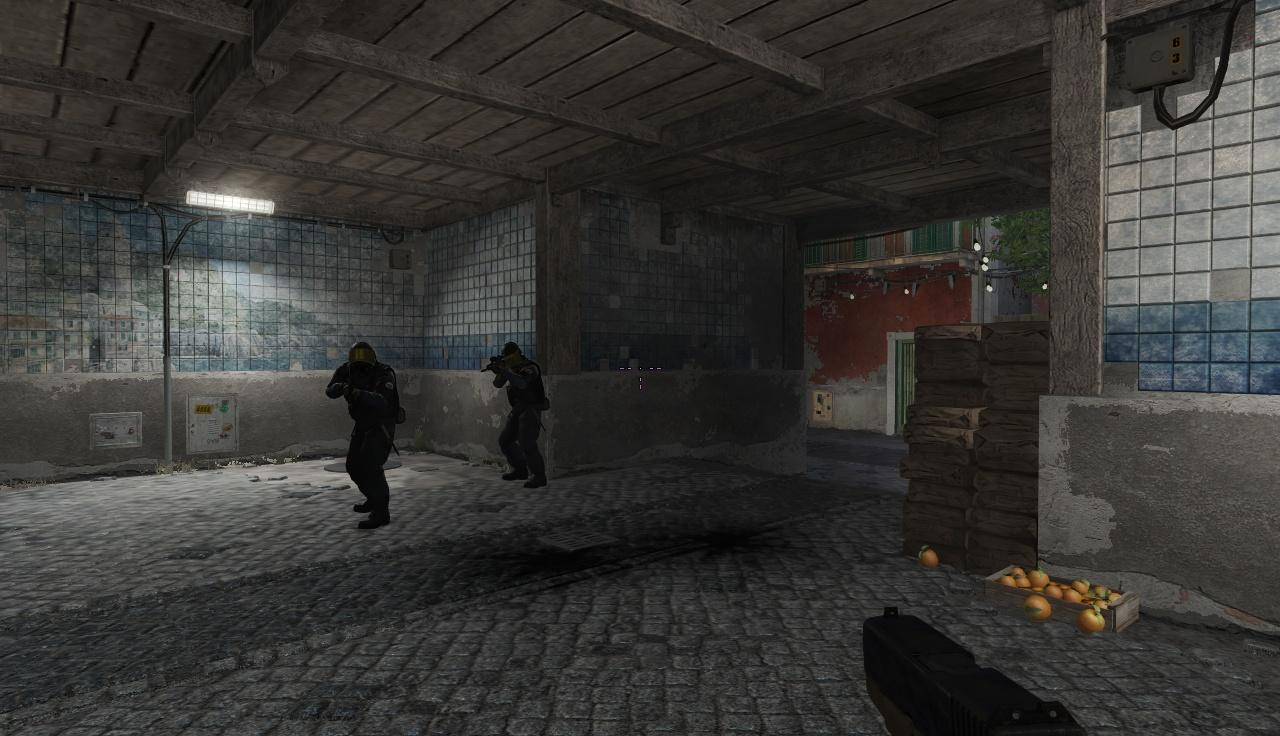ct: (342, 342, 400, 529), (496, 342, 547, 487)
cthead: (348, 343, 376, 374), (501, 343, 522, 367)
pistol: (853, 600, 1087, 736)
